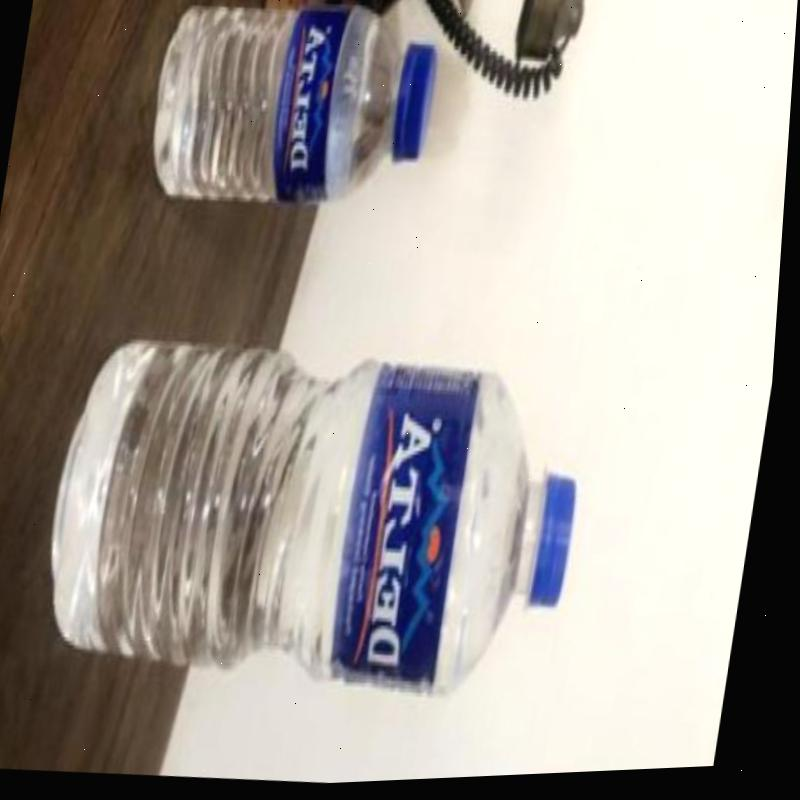botella: (33, 317, 609, 731), (143, 0, 446, 221)
